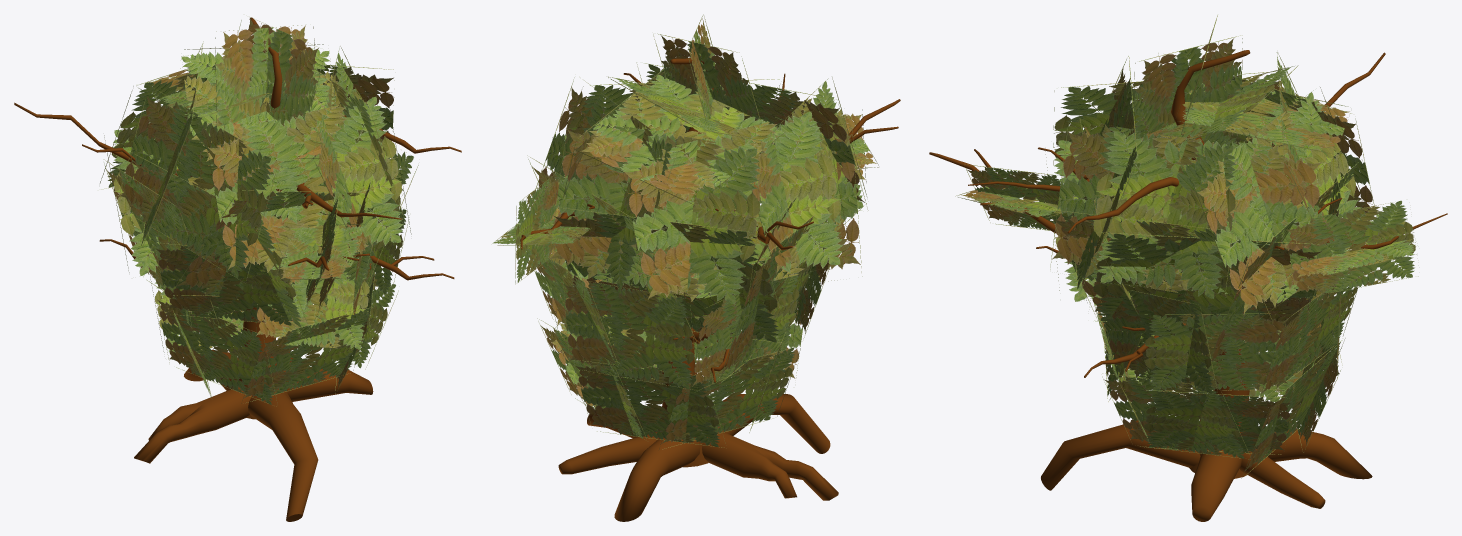
The model's file is 3D_ENVB_001.FBX.
The picture shows the model from 3 angles, left to right: view 1: azimuth 30°, elevation 25°; view 2: azimuth 150°, elevation 25°; view 3: azimuth 270°, elevation 25°; orthographic projection. The views are drawn at different scales.
Parts seen in each view (by area): view 1: BushLeaves016, BushLeaves024, Cylinder001, BushLeaves006, BushLeaves007, BushLeaves004, BushLeaves029, BushLeaves005, BushLeaves035, BushLeaves030, BushLeaves034, BushLeaves027 (+14 smaller); view 2: BushLeaves021, BushLeaves017, Cylinder001, BushLeaves010, BushLeaves028, BushLeaves011, BushLeaves022, BushLeaves009, BushLeaves024, BushLeaves014, BushLeaves008, BushLeaves029 (+16 smaller); view 3: Cylinder001, BushLeaves018, BushLeaves020, BushLeaves014, BushLeaves001, BushLeaves031, BushLeaves030, BushLeaves026, BushLeaves, BushLeaves003, BushLeaves002, BushLeaves012 (+16 smaller).
Boxes of the visible parts, box(x1,y1,x2,y2) form: BushLeaves016: box(206, 94, 411, 278); BushLeaves024: box(117, 91, 278, 280); Cylinder001: box(14, 17, 461, 521); BushLeaves006: box(156, 295, 277, 406); BushLeaves007: box(155, 242, 295, 325); BushLeaves004: box(241, 307, 376, 403); BushLeaves029: box(215, 25, 315, 181); BushLeaves005: box(255, 258, 370, 349); BushLeaves035: box(181, 44, 340, 162); BushLeaves030: box(231, 17, 325, 190); BushLeaves034: box(275, 224, 366, 279); BushLeaves027: box(170, 190, 403, 297); BushLeaves021: box(622, 111, 850, 307); BushLeaves017: box(547, 122, 768, 304); Cylinder001: box(520, 56, 900, 521); BushLeaves010: box(563, 277, 696, 389); BushLeaves028: box(572, 72, 784, 203); BushLeaves011: box(574, 360, 725, 447); BushLeaves022: box(551, 206, 788, 343); BushLeaves009: box(659, 347, 800, 449); BushLeaves024: box(743, 77, 867, 284); BushLeaves014: box(529, 77, 678, 290); BushLeaves008: box(691, 264, 803, 392); BushLeaves029: box(653, 33, 763, 153); Cylinder001: box(929, 50, 1447, 521); BushLeaves018: box(1093, 130, 1321, 300); BushLeaves020: box(1050, 123, 1243, 298); BushLeaves014: box(1192, 87, 1366, 325); BushLeaves001: box(1144, 313, 1288, 390); BushLeaves031: box(1286, 200, 1418, 298); BushLeaves030: box(1133, 35, 1242, 162); BushLeaves026: box(1090, 232, 1321, 331); BushLeaves: box(1144, 390, 1291, 454); BushLeaves003: box(1100, 290, 1217, 393); BushLeaves002: box(1102, 373, 1249, 459); BushLeaves012: box(1259, 276, 1358, 400).
Bounding box in the file's own units: 11.19 × 14.74 × 14.59.
